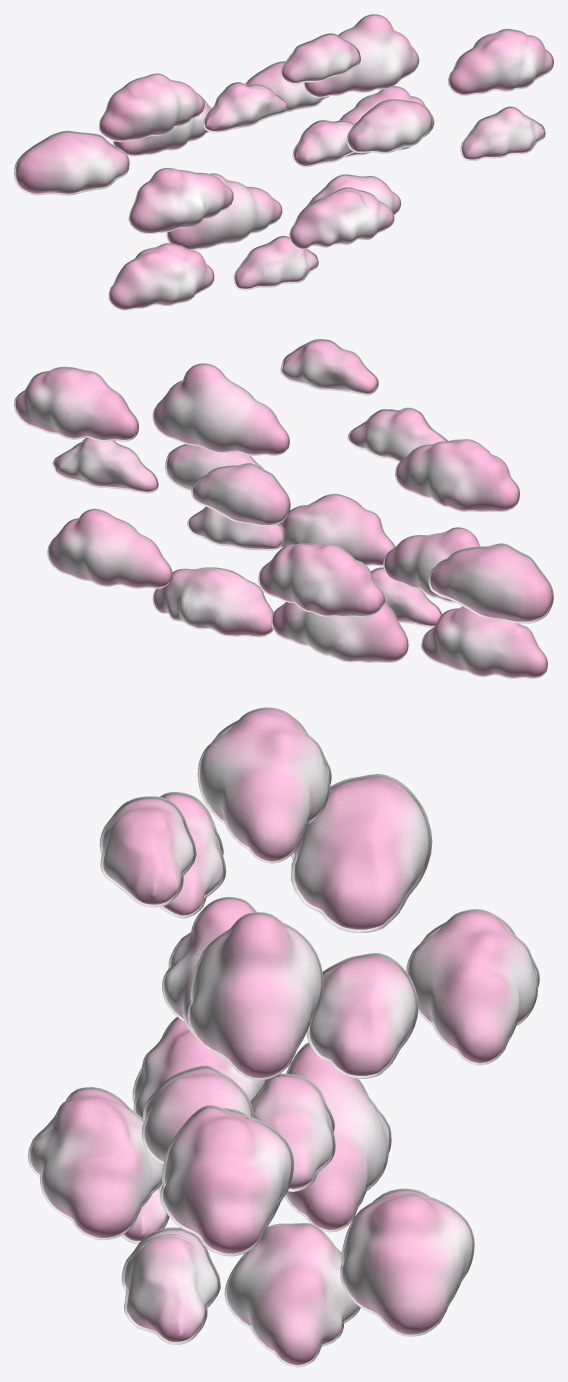
Rendered from clouds_grouped.glb.
3 renders of one model, top to bottom at view 1: azimuth 30°, elevation 25°; view 2: azimuth 150°, elevation 25°; view 3: azimuth 270°, elevation 25°, orthographic. The views are drawn at different scales.
Parts seen in each view (by area): view 1: cloud.010, cloud.005, cloud.004, cloud.013, cloud.003, cloud.019, cloud.011, cloud.009, cloud.016, cloud.017, cloud.018, cloud.007 (+6 smaller); view 2: cloud.019, cloud.010, cloud.014, cloud.012, cloud.013, cloud.004, cloud.005, cloud.002, cloud.009, cloud.011, cloud.006, cloud.017 (+6 smaller); view 3: cloud.019, cloud.010, cloud.013, cloud.012, cloud.004, cloud.014, cloud.011, cloud.002, cloud.006, cloud.009, cloud.017, cloud.015 (+6 smaller).
Boxes of the visible parts, box(x1,y1,x2,y2) form: cloud.010: box(14, 130, 129, 195); cloud.005: box(108, 243, 214, 310); cloud.004: box(98, 73, 204, 141); cloud.013: box(448, 28, 553, 96); cloud.003: box(128, 168, 233, 233); cloud.019: box(303, 14, 419, 97); cloud.011: box(289, 187, 394, 249); cloud.009: box(166, 173, 282, 249); cloud.016: box(346, 99, 432, 153); cloud.017: box(460, 106, 545, 160); cloud.018: box(233, 235, 318, 290); cloud.007: box(203, 82, 288, 132); cloud.019: box(152, 363, 289, 455); cloud.010: box(428, 543, 553, 623); cloud.014: box(258, 543, 385, 617); cloud.012: box(47, 508, 172, 588); cloud.013: box(14, 366, 138, 441); cloud.004: box(395, 439, 520, 511); cloud.005: box(421, 606, 547, 678); cloud.002: box(152, 567, 273, 637); cloud.009: box(271, 602, 408, 662); cloud.011: box(279, 493, 395, 566); cloud.006: box(191, 463, 290, 526); cloud.017: box(52, 437, 158, 493); cloud.019: box(187, 912, 323, 1079); cloud.010: box(290, 774, 432, 932); cloud.013: box(160, 1105, 294, 1256); cloud.012: box(340, 1188, 474, 1336); cloud.004: box(197, 707, 331, 863); cloud.014: box(406, 909, 539, 1065); cloud.011: box(28, 1087, 163, 1240); cloud.002: box(224, 1223, 360, 1367); cloud.006: box(306, 953, 418, 1078); cloud.009: box(284, 1042, 391, 1232); cloud.017: box(121, 1227, 220, 1344); cloud.015: box(99, 796, 196, 907).
Bounding box in the file's own units: 25.02 × 11.46 × 11.12.
Materials: 2 (1 with a texture image).
